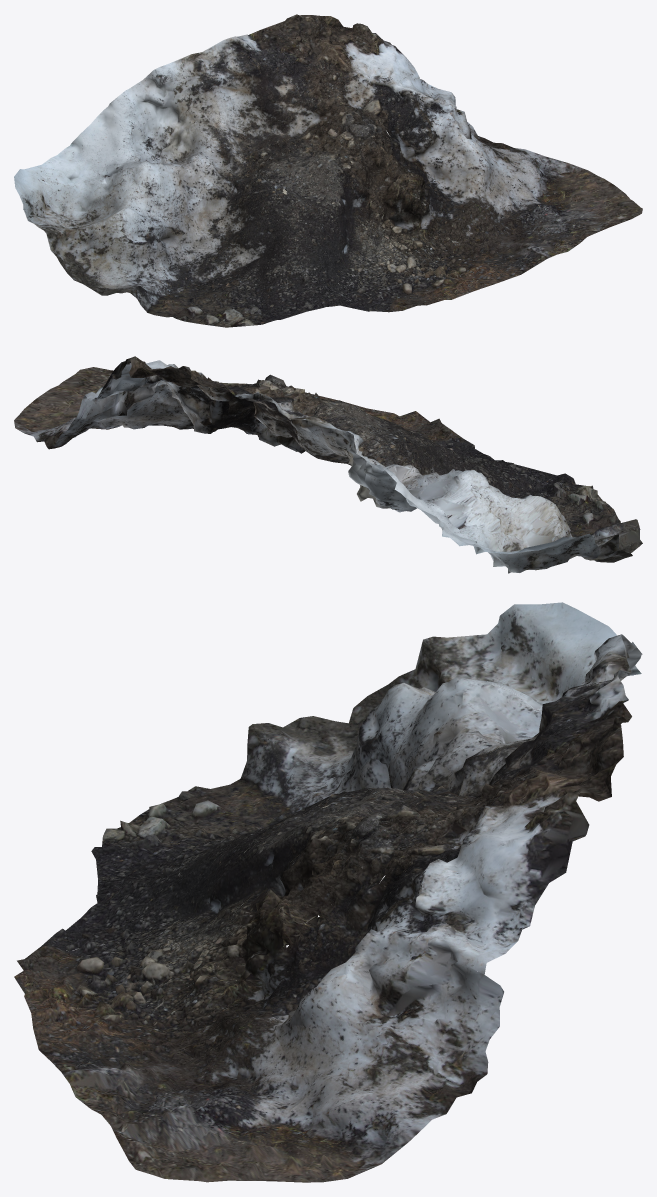
3 renders of one model, top to bottom at view 1: azimuth 30°, elevation 25°; view 2: azimuth 150°, elevation 25°; view 3: azimuth 270°, elevation 25°, orthographic. The views are drawn at different scales.
Parts seen in each view (by area): view 1: Dirt_Pile_01; view 2: Dirt_Pile_01; view 3: Dirt_Pile_01.
Boxes of the visible parts, box(x1,y1,x2,y2) form: Dirt_Pile_01: box(14, 14, 642, 327); Dirt_Pile_01: box(14, 356, 642, 573); Dirt_Pile_01: box(14, 602, 642, 1182).
Bounding box in the file's own units: 2 × 0.591 × 1.16.
Materials: 1 (1 with a texture image).
